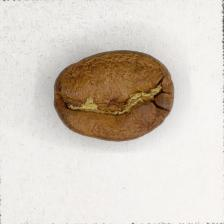NG: (67, 55, 166, 118)
